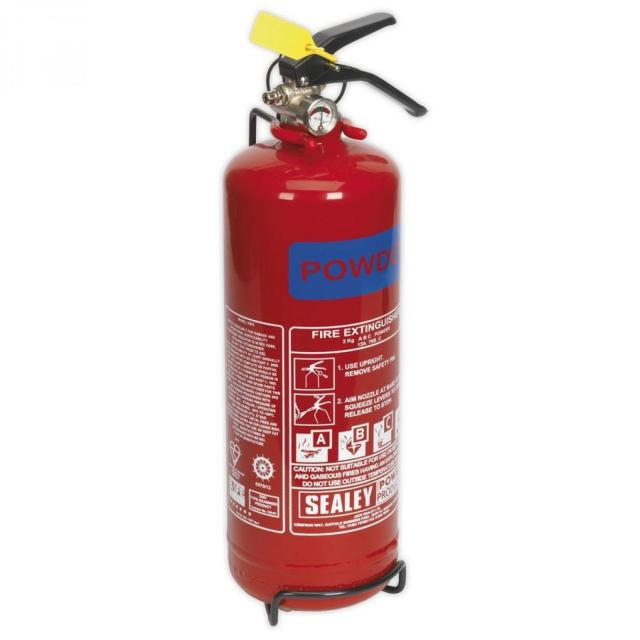fire_extinguisher: (217, 8, 432, 614)
